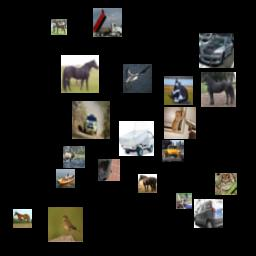automobile: (72, 101, 110, 139), (199, 33, 234, 68), (194, 199, 223, 228), (162, 140, 184, 162)
bird: (48, 207, 83, 242), (123, 64, 152, 93)
cat: (164, 107, 196, 139), (164, 76, 193, 105), (98, 159, 120, 181)
deer: (63, 146, 85, 168), (176, 193, 192, 209)
frog: (215, 173, 237, 195)
ship: (56, 169, 75, 188)
truck: (119, 121, 154, 156), (93, 8, 122, 37)
